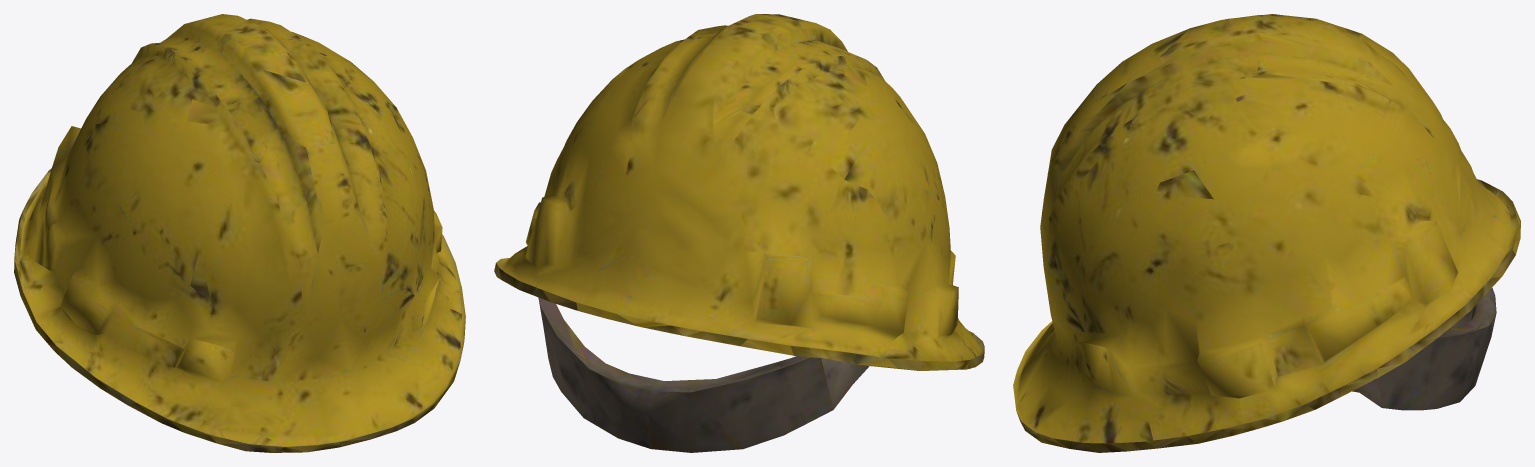
The model's file is hat-hard.glb.
3 renders of one model, left to right at view 1: azimuth 30°, elevation 25°; view 2: azimuth 150°, elevation 25°; view 3: azimuth 270°, elevation 25°, orthographic. The views are drawn at different scales.
Visible parts, largest first — view 1: hat-hard; view 2: hat-hard; view 3: hat-hard.
Boxes of the visible parts, <box> form: hat-hard: <box>14,14,465,452</box>; hat-hard: <box>494,14,984,452</box>; hat-hard: <box>1013,14,1520,452</box>.
Size of the model in its own units: 0.3779 by 0.3 by 0.3686.
1 material, 1 textured.
